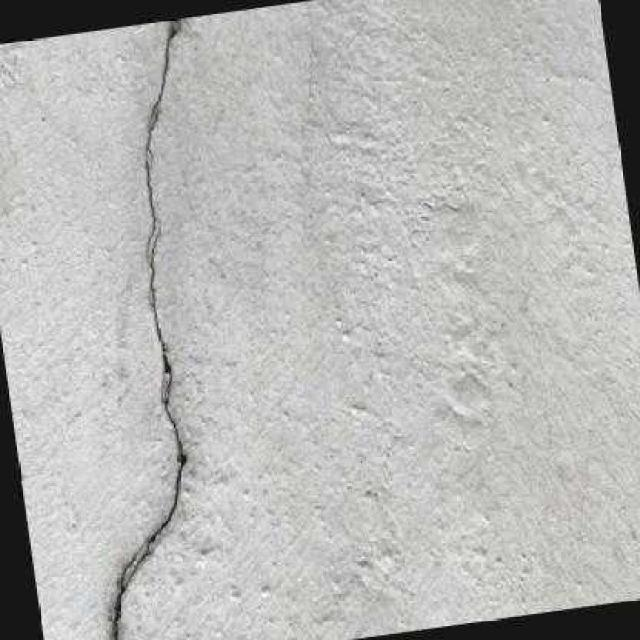D00: (108, 238, 183, 640), (142, 17, 178, 267)
